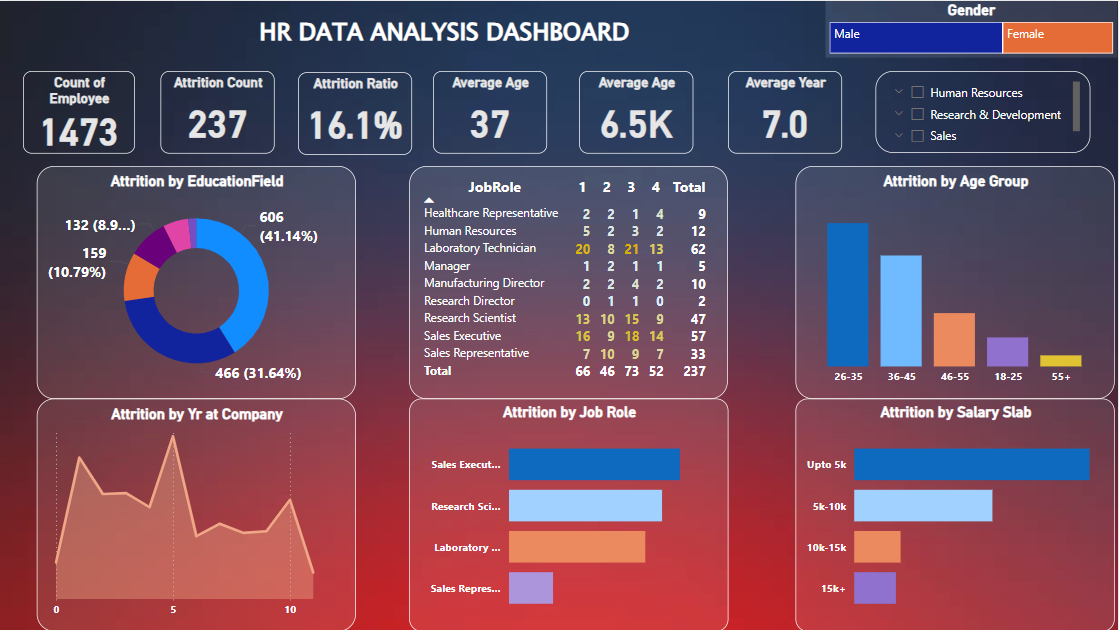

Layout of this report page (visuals, bound fields, positions):
{"tool":"powerbi","page":{"name":"Page 1","canvas":[1280,720],"ordinal":0},"visuals":[{"type":"card","title":"Count of Employee","fields":{"Values":["CountNonNull(HR_Analytics original.EmpID)"]},"box":[28.8,79.6,127.6,94.7],"z":0},{"type":"card","title":"Attrition Count ","fields":{"Values":["Sum(HR_Analytics original.AttritionCount)"]},"box":[185.2,79.6,130.4,94.7],"z":1000},{"type":"card","title":"Attrition Ratio","fields":{"Values":["HR_Analytics original.AttritionRatio"]},"box":[343.1,81,130.4,94.7],"z":2000},{"type":"card","title":"Average Age","fields":{"Values":["HR_Analytics original.Average Age"]},"box":[496.7,79.6,130.4,94.7],"z":3000},{"type":"card","title":"Average Age","fields":{"Values":["Avg(HR_Analytics original.MonthlyIncome)"]},"box":[664.2,79.6,130.4,94.7],"z":4000},{"type":"card","title":"Average  Year","fields":{"Values":["Avg(HR_Analytics original.YearsAtCompany)"]},"box":[834.3,79.6,130.4,94.7],"z":5000},{"type":"donutChart","title":"Attrition by EducationField","fields":{"Category":["HR_Analytics original.EducationField"],"Y":["CountNonNull(HR_Analytics original.Attrition)"]},"box":[43.9,188,365,266.2],"z":6000},{"type":"columnChart","title":"Attrition by Age Group","fields":{"Category":["HR_Analytics original.AgeGroup"],"Y":["CountNonNull(HR_Analytics original.Attrition)"]},"box":[911.2,188,365,266.2],"z":7000},{"type":"pivotTable","fields":{"Rows":["HR_Analytics original.JobRole"],"Columns":["HR_Analytics original.JobSatisfaction"],"Values":["Sum(HR_Analytics original.AttritionCount)"]},"box":[470.7,188,363.6,266.2],"z":8000},{"type":"barChart","title":"Attrition by Salary Slab","fields":{"Category":["HR_Analytics original.SalarySlab"],"Y":["CountNonNull(HR_Analytics original.Attrition)"]},"box":[911.2,454.2,365,266.2],"z":9000},{"type":"barChart","title":"Attrition by Job Role","fields":{"Category":["HR_Analytics original.JobRole"],"Y":["CountNonNull(HR_Analytics original.Attrition)"]},"box":[469.3,454.2,365,266.2],"z":10000},{"type":"areaChart","title":"Attrition by Yr at Company","fields":{"Category":["HR_Analytics original.YearsAtCompany"],"Y":["CountNonNull(HR_Analytics original.Attrition)"]},"box":[43.9,454.2,365,266.2],"z":11000},{"type":"treemap","title":"Gender","fields":{"Group":["HR_Analytics original.Gender"],"Values":["CountNonNull(HR_Analytics original.Attrition)"]},"box":[946,0,333.7,65],"z":12000},{"type":"slicer","fields":{"Values":["HR_Analytics original.Department","HR_Analytics original.Attrition"]},"box":[1002.5,79.8,245.4,93.3],"z":13000},{"type":"textbox","box":[19.2,9.6,902.9,54.9],"z":14000}]}

Visuals, with their boxes in screenshot pixels (x1, y1, x2, y2), scaled from the page's 1280x720 canvas onto the 1119x630 screenshot:
"Count of Employee" card: pyautogui.locateOnScreen(25, 70, 137, 153)
"Attrition Count " card: pyautogui.locateOnScreen(162, 70, 276, 153)
"Attrition Ratio" card: pyautogui.locateOnScreen(300, 71, 414, 154)
"Average Age" card: pyautogui.locateOnScreen(434, 70, 548, 153)
"Average Age" card: pyautogui.locateOnScreen(581, 70, 695, 153)
"Average  Year" card: pyautogui.locateOnScreen(729, 70, 843, 153)
"Attrition by EducationField" donutChart: pyautogui.locateOnScreen(38, 164, 357, 397)
"Attrition by Age Group" columnChart: pyautogui.locateOnScreen(797, 164, 1116, 397)
pivotTable - HR_Analytics original.JobRole x HR_Analytics original.JobSatisfaction: pyautogui.locateOnScreen(411, 164, 729, 397)
"Attrition by Salary Slab" barChart: pyautogui.locateOnScreen(797, 397, 1116, 629)
"Attrition by Job Role" barChart: pyautogui.locateOnScreen(410, 397, 729, 629)
"Attrition by Yr at Company" areaChart: pyautogui.locateOnScreen(38, 397, 357, 629)
"Gender" treemap: pyautogui.locateOnScreen(827, 0, 1118, 57)
slicer - HR_Analytics original.Department x HR_Analytics original.Attrition: pyautogui.locateOnScreen(876, 70, 1091, 151)
textbox: pyautogui.locateOnScreen(17, 8, 806, 56)
